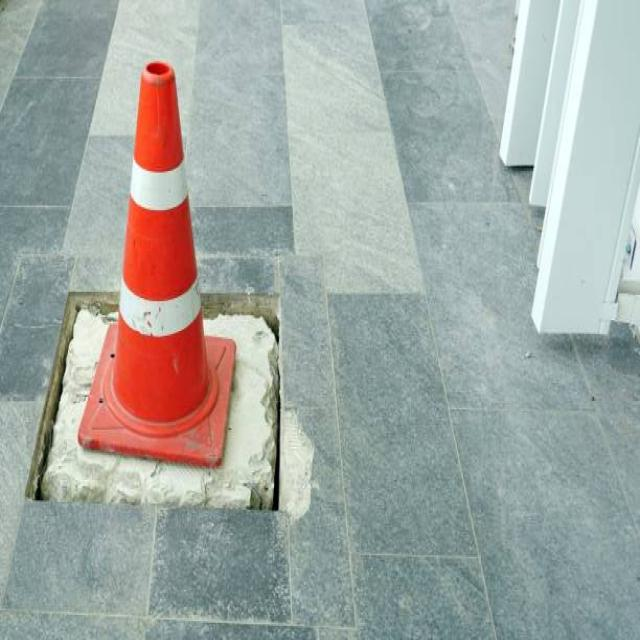Traffic Cone: (71, 37, 250, 481)
